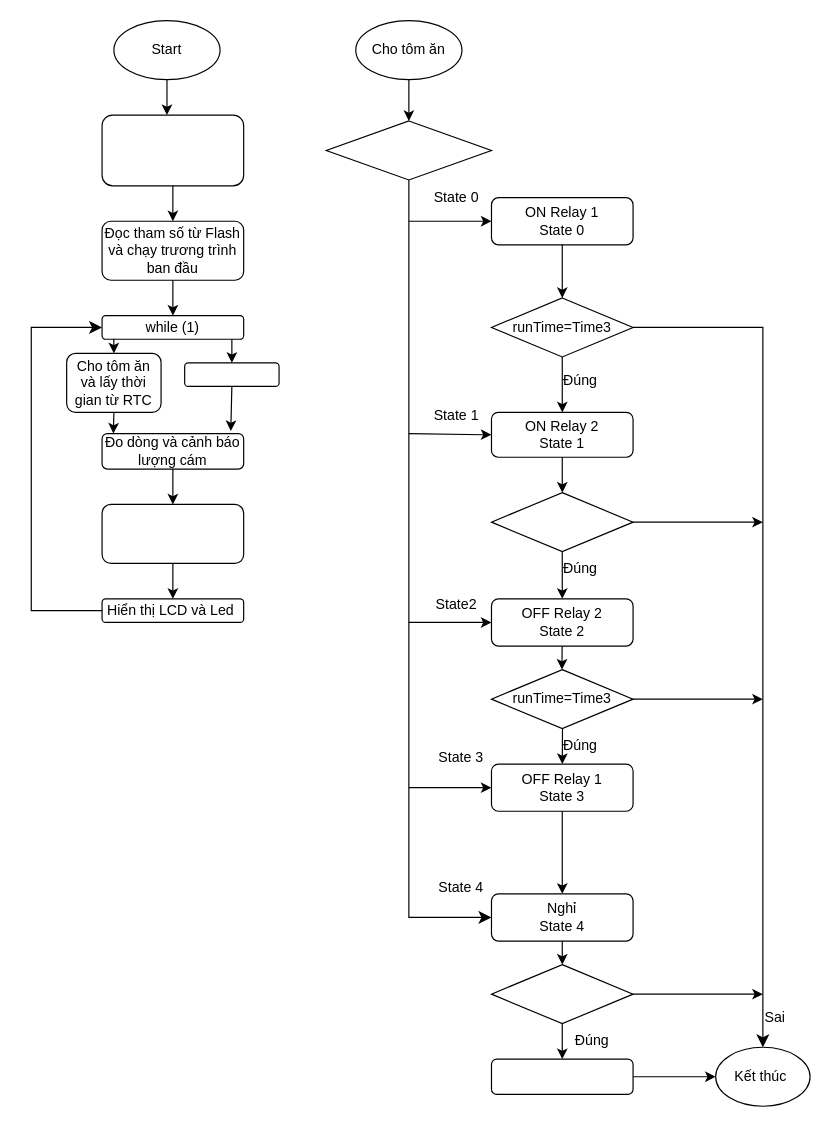
This 831x1127 diagram has some shape labels left out. The shapes that lost their labels are listed below. From the top down, each one's box as (x1, y1, x2, y2) in pixels, then its label:
(101, 114, 244, 186): Khởi tạo và cấu hình ngoại vi
(325, 120, 491, 180): State
(183, 362, 279, 386): Cài đặt
(101, 503, 244, 563): Cài đặt tham số hoặc thay đổi trạng thái hiển thị LCD
(490, 491, 633, 552): runTime=Time1
(490, 963, 633, 1024): runTime=Time2
(490, 1058, 633, 1094): State = State 0
